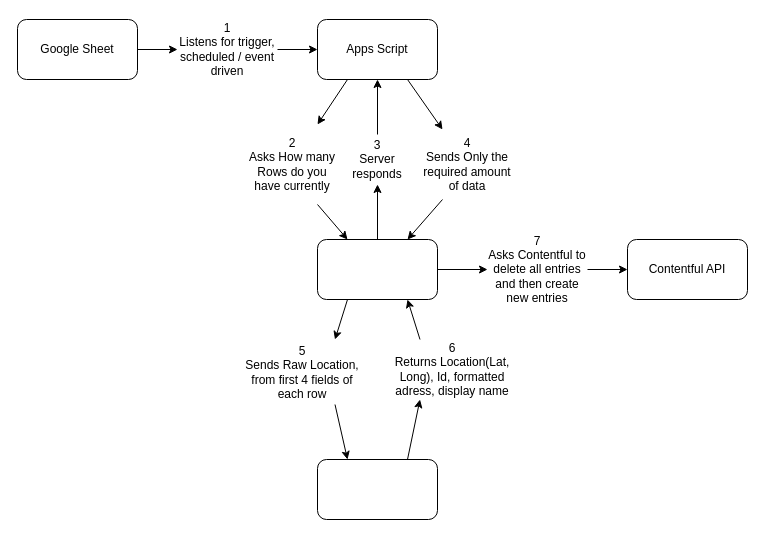
Image size: 765x537. Some labels were removed from this diagram. The shapes that lost their labels are listed below. From the top down, each one's box as (x1, y1, x2, y2) in pixels, then its label:
(316, 238, 438, 300): Server
(316, 458, 438, 520): Google Place API
